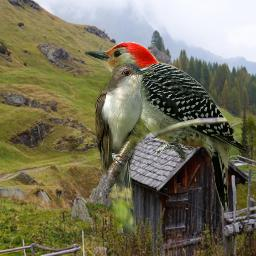Cuckoo: (95, 57, 154, 233)
Woodpecker: (85, 41, 246, 213)
